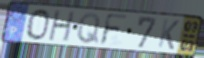7: (136, 15, 158, 50)
F: (98, 13, 130, 48)
H: (47, 10, 77, 44)
K: (156, 18, 181, 51)
O: (25, 8, 51, 41)
Q: (76, 12, 102, 46)
